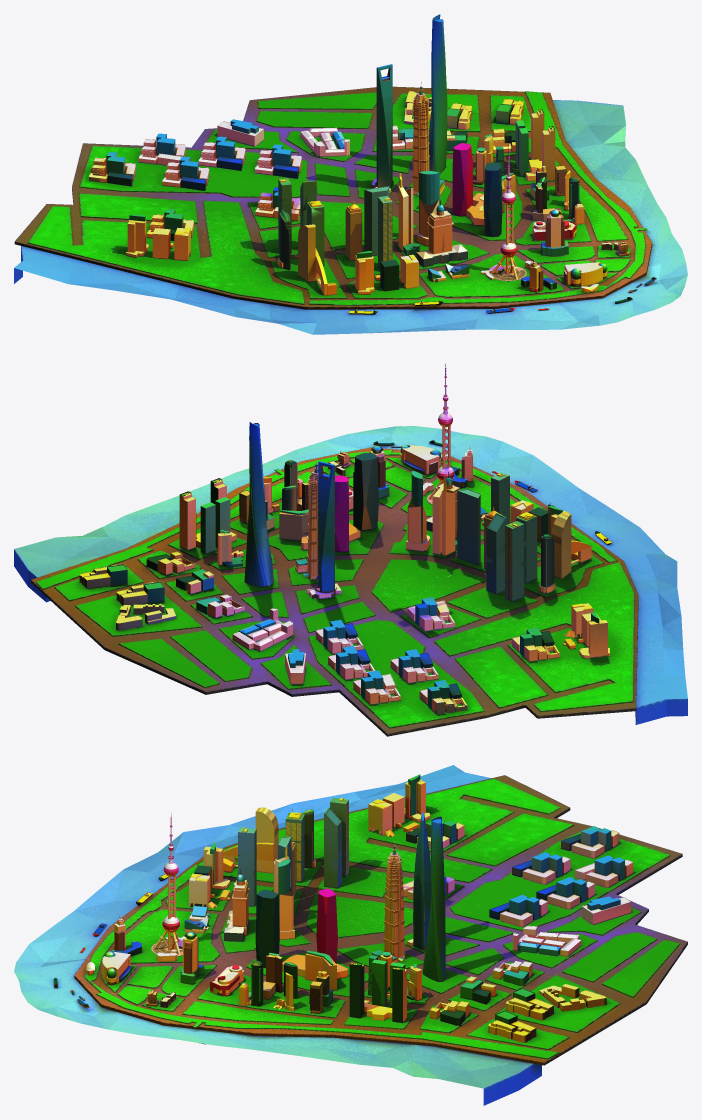
Rendered from lowpoly_cartoon_shanghai 2.glb.
3 renders of one model, top to bottom at view 1: azimuth 30°, elevation 25°; view 2: azimuth 150°, elevation 25°; view 3: azimuth 270°, elevation 25°, orthographic. The views are drawn at different scales.
Visible parts, largest first — view 1: Object_13, Object_2, Object_6, Object_3, Object_8, Object_10, Object_4; view 2: Object_13, Object_2, Object_3, Object_6, Object_8, Object_10; view 3: Object_13, Object_2, Object_3, Object_8, Object_6, Object_10.
Part boxes in pixels (x1,y1,x2,y2): Object_13: [14, 86, 652, 309]; Object_2: [14, 100, 687, 334]; Object_6: [126, 171, 469, 295]; Object_3: [89, 91, 523, 240]; Object_8: [452, 109, 629, 292]; Object_10: [371, 14, 531, 281]; Object_4: [349, 277, 656, 314]; Object_13: [30, 447, 638, 736]; Object_2: [14, 426, 687, 724]; Object_3: [79, 551, 559, 714]; Object_6: [406, 471, 609, 658]; Object_8: [179, 445, 473, 567]; Object_10: [244, 363, 454, 598]; Object_13: [74, 775, 687, 1065]; Object_2: [14, 765, 541, 1105]; Object_3: [403, 819, 633, 1042]; Object_8: [86, 888, 421, 1022]; Object_6: [184, 774, 430, 941]; Object_10: [151, 812, 445, 981].
Bounding box in the file's own units: 5.13 × 1.42 × 4.51.
7 materials, 7 textured.
